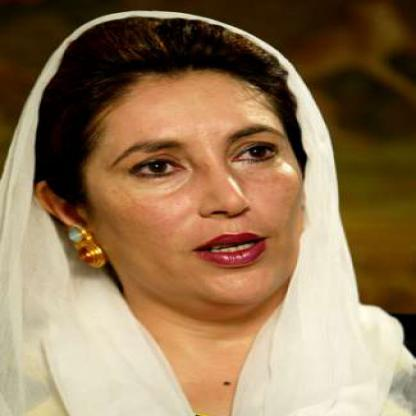face: (68, 27, 322, 314)
